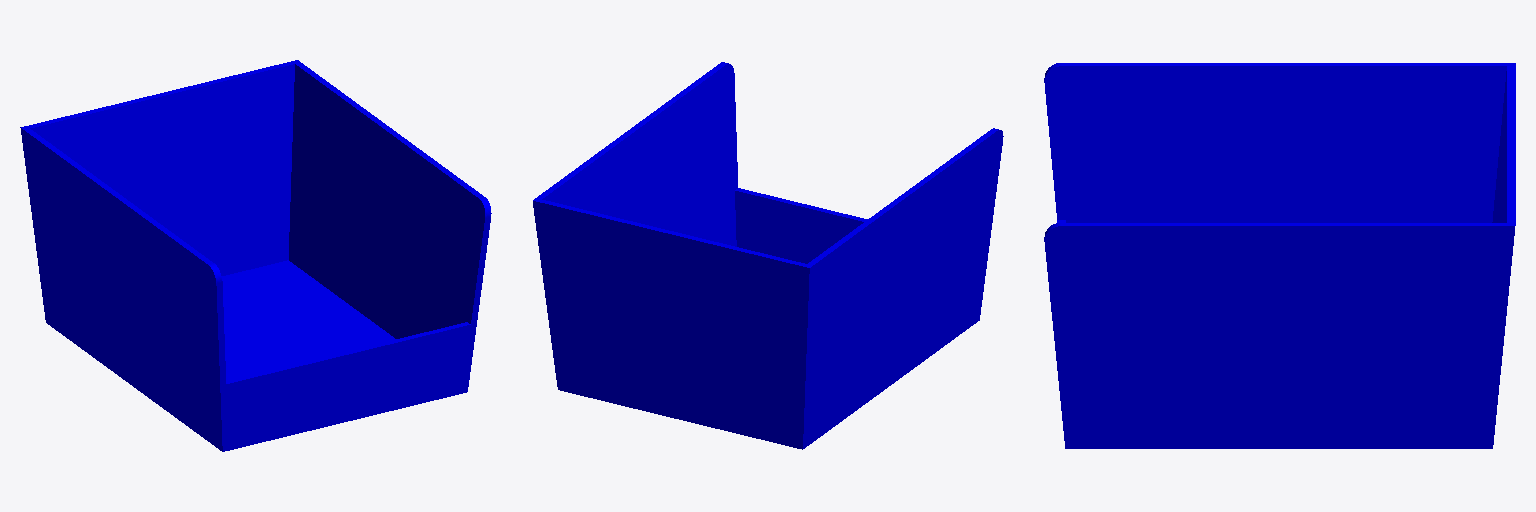
The robot description file, URDF, robot "blue_box":
<?xml version="1.0" ?>
<!-- Generated using onshape-to-robot -->
<robot name="blue_box">
  <!-- Link part_1 -->
  <link name="part_1">
    <inertial>
      <origin xyz="0.00317102 0.00792455 0.0478793" rpy="0 0 0"/>
      <mass value="0.474486"/>
      <inertia ixx="0.00897419" ixy="-4.82992e-09" ixz="3.18237e-09" iyy="0.0080455" iyz="-0.000699998" izz="0.0129012"/>
    </inertial>
    <!-- Part part_1 -->
    <visual>
      <origin xyz="0.00317106 -0.00783064 -0.00497648" rpy="0 -0 0"/>
      <geometry>
        <mesh filename="package://assets/part_1.stl"/>
      </geometry>
      <material name="part_1_material">
        <color rgba="0 0 1 1.0"/>
      </material>
    </visual>
    <collision>
      <origin xyz="0.00317106 -0.00783064 -0.00497648" rpy="0 -0 0"/>
      <geometry>
        <mesh filename="package://assets/part_1.stl"/>
      </geometry>
    </collision>
  </link>
</robot>

--- What the picture shows (computed from the rendered views, not written in the file) ---
3 views of the same robot in one strip: view 1: azimuth 30°, elevation 25°; view 2: azimuth 150°, elevation 25°; view 3: azimuth 270°, elevation 25° (orthographic).
Robot: blue_box — 1 links, 0 joints (none); root link part_1; default pose: every joint at zero.
Links seen in each view (by area): view 1: part_1; view 2: part_1; view 3: part_1.
Link boxes in pixels (x1=…): part_1: x1=20, y1=60, x2=491, y2=451; part_1: x1=533, y1=62, x2=1003, y2=449; part_1: x1=1044, y1=63, x2=1515, y2=448.
Size in the robot's own frame: 0.2262 by 0.2753 by 0.15 metres.
Meshes: 1 distinct files referenced, 1 mesh visuals loaded (1 binary STL).